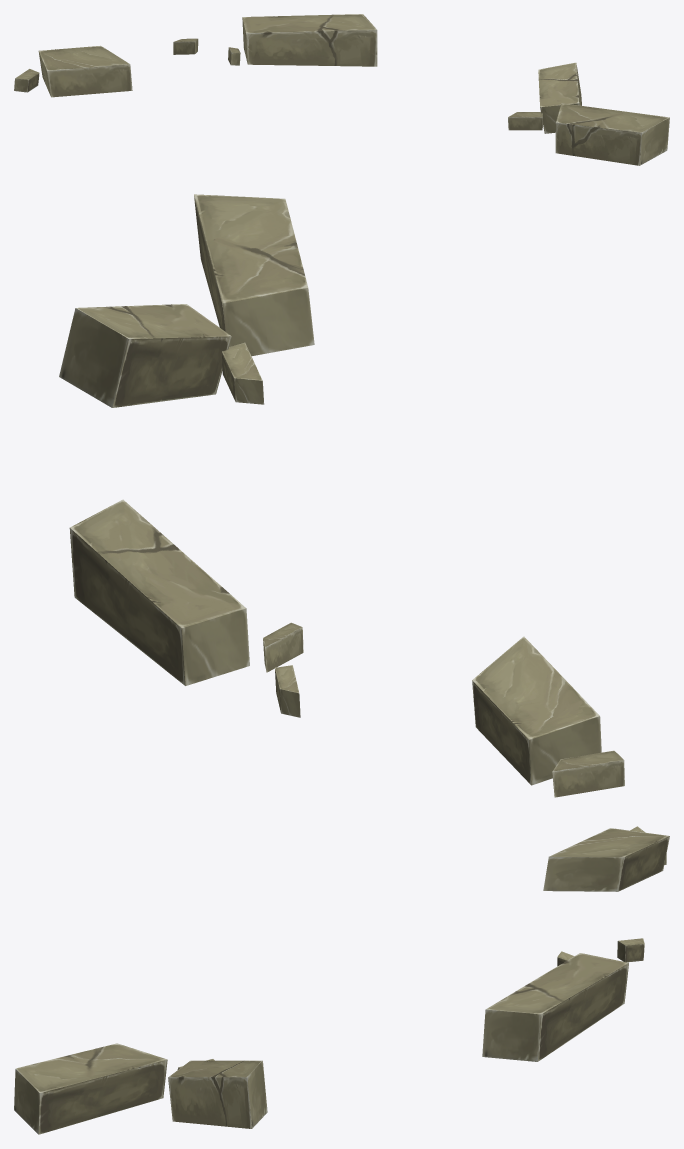
The model's file is wallrocks_concavebase.fbx.
3 renders of one model, top to bottom at view 1: azimuth 30°, elevation 25°; view 2: azimuth 150°, elevation 25°; view 3: azimuth 270°, elevation 25°, orthographic. The views are drawn at different scales.
Visible parts, largest first — view 1: rocks10; view 2: rocks10; view 3: rocks10.
Boxes of the visible parts, x1,y1,x2,y2 form: rocks10: (14,14,669,165); rocks10: (59,194,624,797); rocks10: (14,826,669,1134).
Bounding box in the file's own units: 1.92 × 0.1889 × 1.84.
